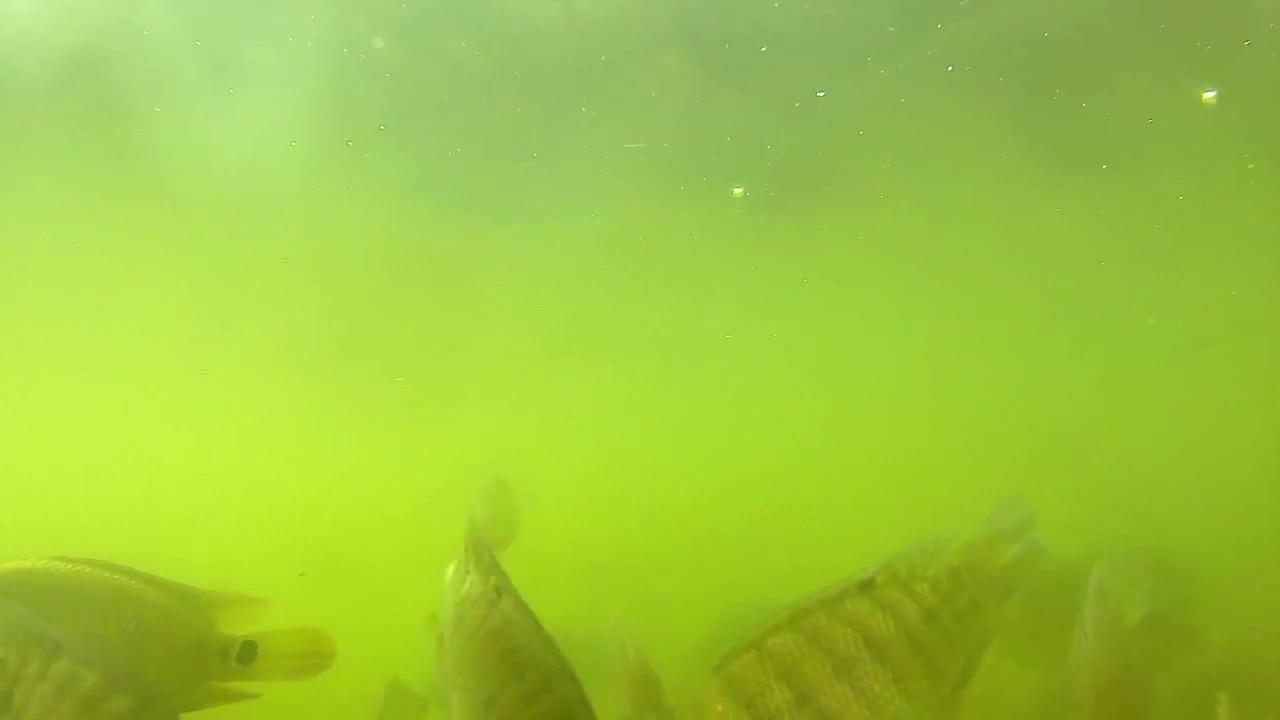Tilapia: (675, 508, 1046, 720), (0, 540, 349, 714), (397, 488, 604, 720)
